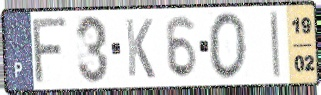3: (74, 13, 110, 86)
6: (164, 14, 199, 81)
F: (32, 16, 71, 86)
I: (268, 9, 282, 81)
K: (123, 16, 157, 81)
O: (207, 11, 249, 82)
